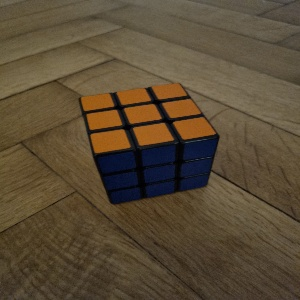cube: (79, 82, 221, 207)
